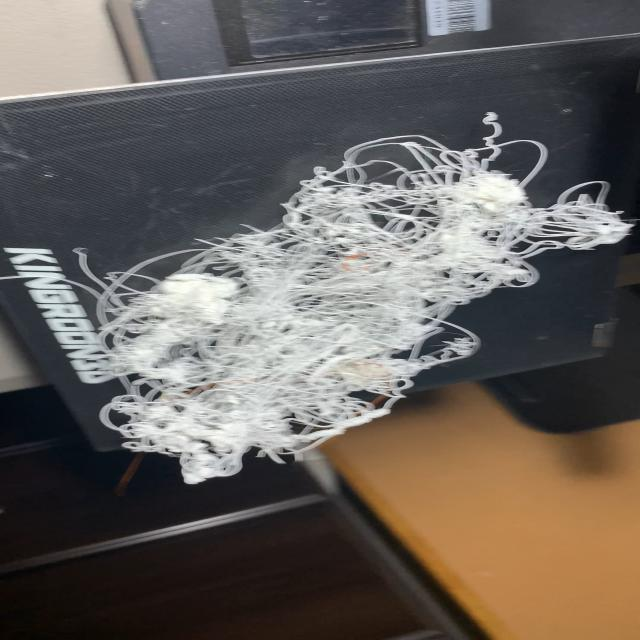spaghetti: (83, 111, 634, 486)
